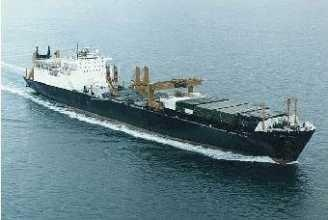Cargoship: (17, 29, 318, 167)
